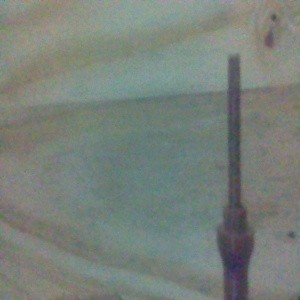obeng: (215, 52, 255, 300)
